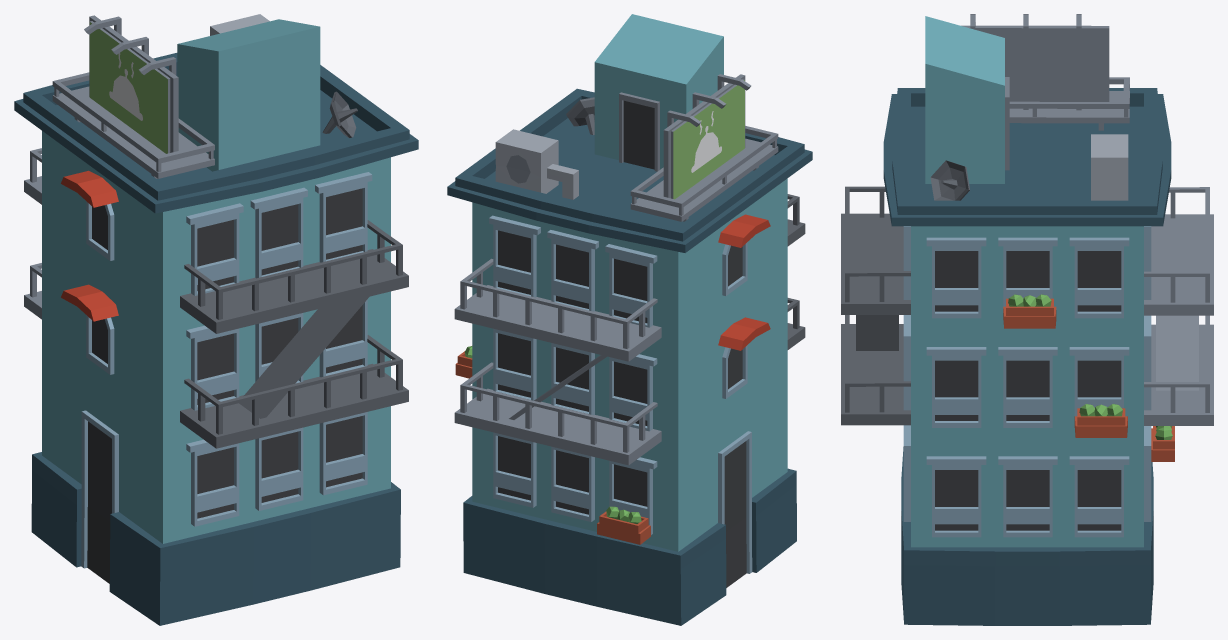
The model's file is Building_House_06.fbx.
3 views of the same model, side by side, from view 1: azimuth 30°, elevation 25°; view 2: azimuth 150°, elevation 25°; view 3: azimuth 270°, elevation 25° (orthographic). The views are drawn at different scales.
Visible parts, largest first — view 1: Building_House_06; view 2: Building_House_06; view 3: Building_House_06.
Boxes of the visible parts, x1,y1,x2,y2 form: Building_House_06: (14,14,418,625); Building_House_06: (447,14,812,625); Building_House_06: (841,14,1213,625).
Size of the model in its own units: 782 by 1463 by 935.
